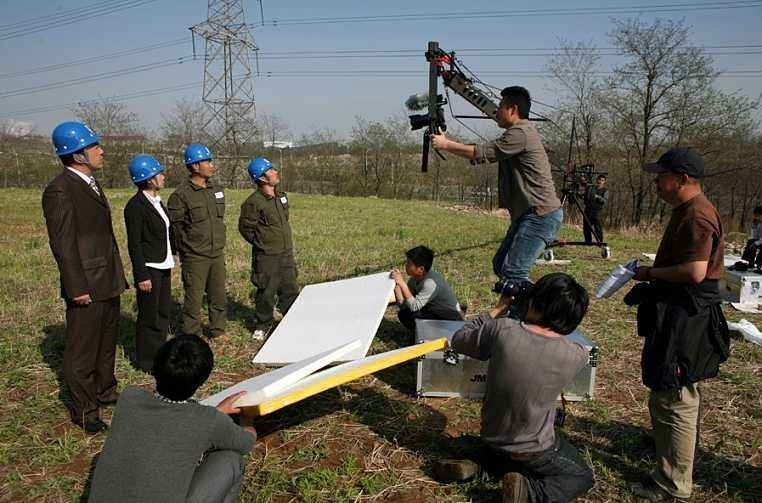blue: (50, 118, 104, 174), (127, 154, 167, 193), (181, 140, 217, 181), (247, 156, 279, 191)
none: (150, 330, 219, 405), (519, 271, 589, 338), (647, 140, 707, 207), (401, 242, 437, 279)
